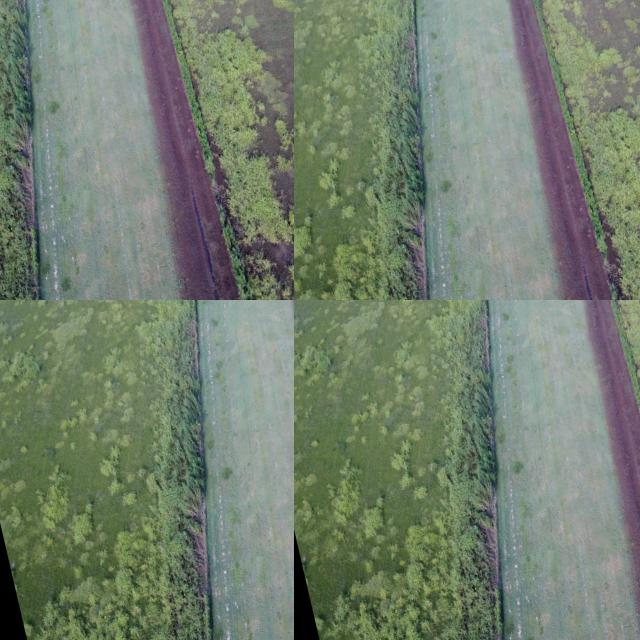fire: (299, 139, 333, 236)
